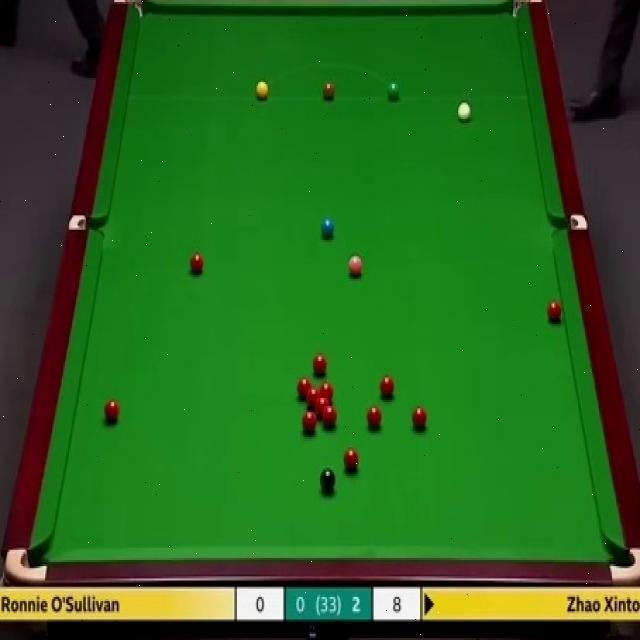black-ball: (320, 465, 337, 494)
blue-ball: (320, 216, 335, 240)
brown-ball: (322, 80, 335, 100)
green-ball: (386, 80, 400, 100)
pink-ball: (344, 252, 365, 280)
red-ball: (546, 298, 564, 327), (342, 445, 361, 472), (188, 252, 206, 276), (102, 398, 120, 422), (378, 374, 396, 398), (411, 407, 428, 431), (366, 405, 382, 430), (294, 375, 308, 399), (313, 354, 328, 376), (322, 406, 336, 429), (304, 386, 320, 406), (318, 381, 334, 401), (302, 411, 317, 432), (315, 394, 329, 414)
white-ball: (457, 98, 475, 122)
yellow-ball: (256, 80, 269, 100)
